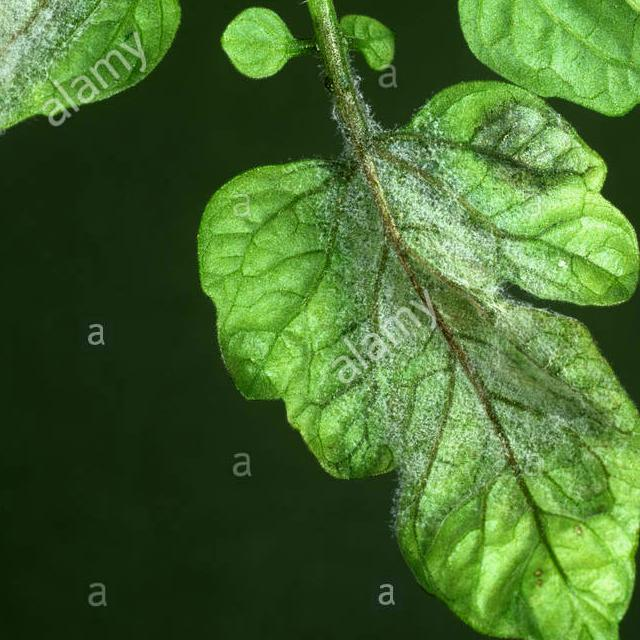Tomato leaf late blight: (197, 87, 640, 640), (0, 0, 309, 167), (342, 0, 640, 137)
